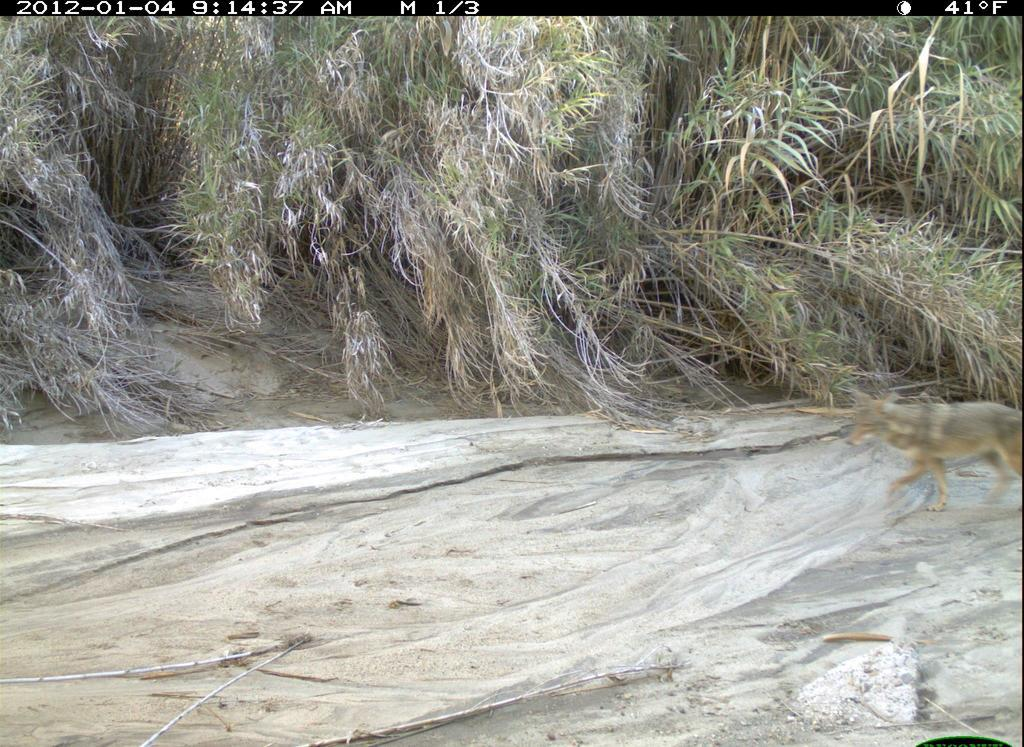coyote: (836, 378, 1024, 519)
